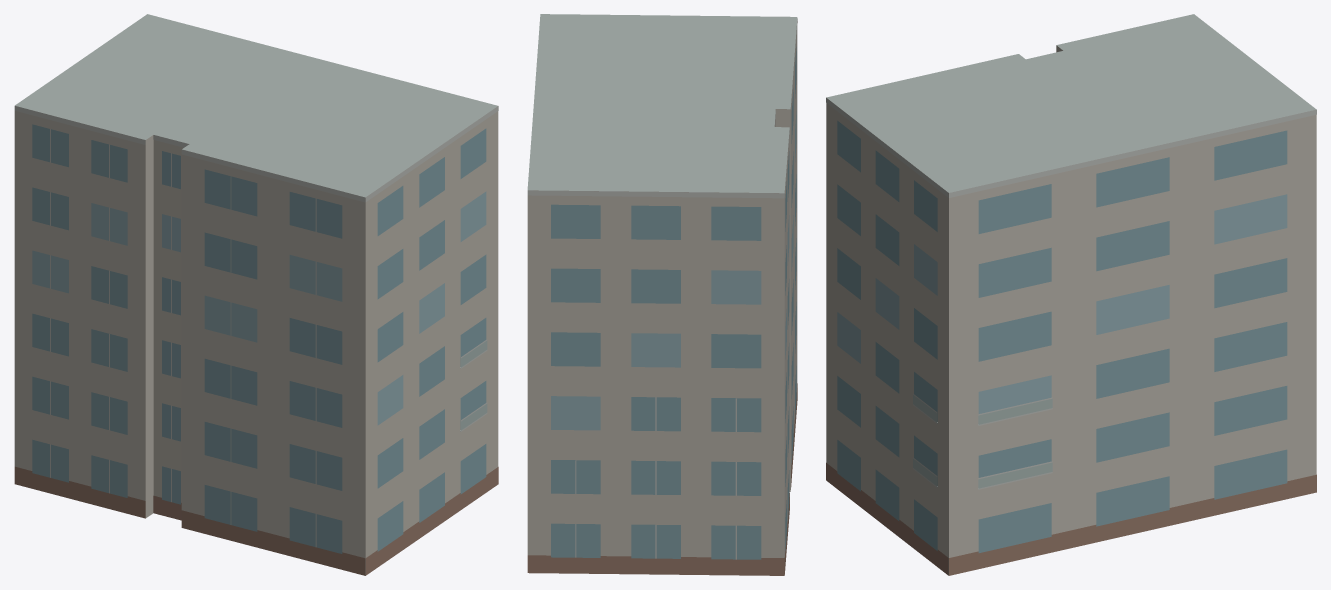
The model's file is survey-upis-32837515.glb.
3 renders of one model, left to right at view 1: azimuth 30°, elevation 25°; view 2: azimuth 150°, elevation 25°; view 3: azimuth 270°, elevation 25°, orthographic.
Parts seen in each view (by area): view 1: survey-upis-32837515.tmp; view 2: survey-upis-32837515.tmp; view 3: survey-upis-32837515.tmp.
Part boxes in pixels (x1,y1,x2,y2): survey-upis-32837515.tmp: [14, 14, 498, 575]; survey-upis-32837515.tmp: [527, 14, 797, 575]; survey-upis-32837515.tmp: [826, 14, 1316, 575].
Bounding box in the file's own units: 18.36 × 18.3 × 21.26.
